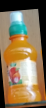orange: (4, 11, 42, 102)
